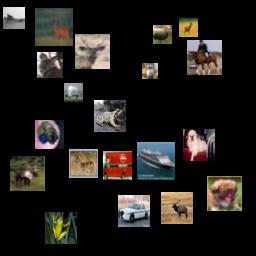airplane: (3, 7, 25, 29), (64, 83, 83, 102)
automobile: (118, 195, 150, 227)
bird: (153, 25, 172, 44)
deer: (35, 8, 73, 46), (75, 34, 110, 69), (10, 156, 45, 191), (161, 192, 193, 224), (69, 149, 98, 178), (37, 52, 63, 78), (179, 18, 198, 37)
dog: (207, 176, 242, 211), (183, 129, 215, 161), (35, 120, 64, 149)
frog: (94, 100, 126, 132), (45, 212, 77, 244)
ship: (137, 142, 175, 180)
truck: (103, 151, 132, 180), (142, 63, 158, 79)
